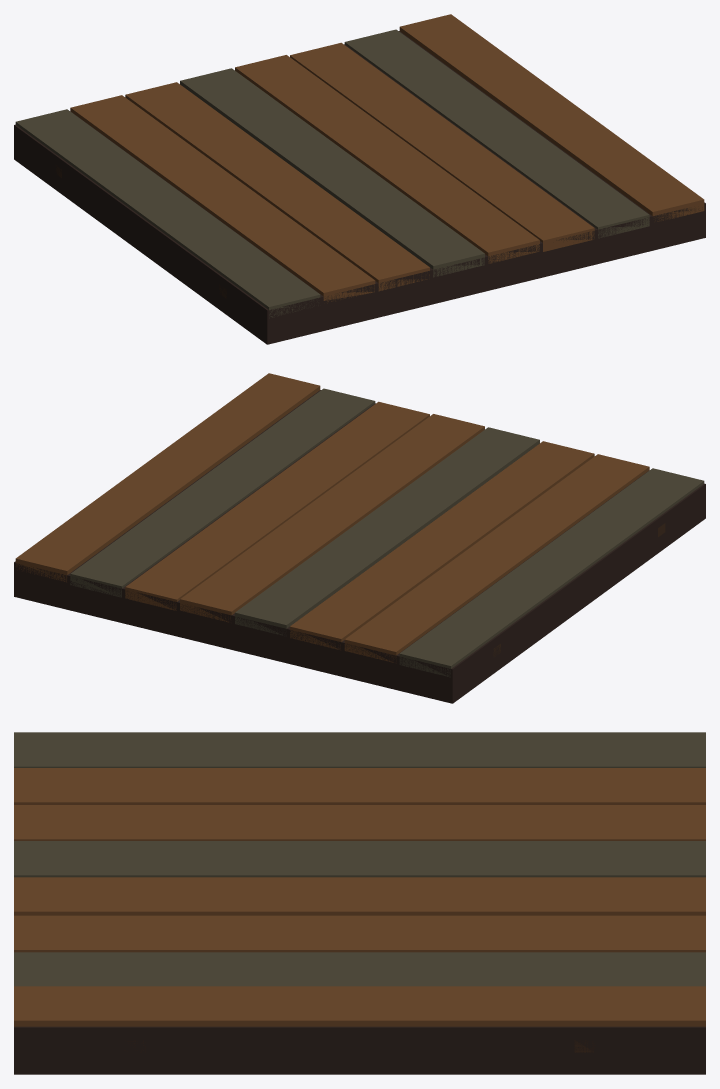
File: floor_wood.fbx
3 views of the same model, one above another, from view 1: azimuth 30°, elevation 25°; view 2: azimuth 150°, elevation 25°; view 3: azimuth 270°, elevation 25° (orthographic). The views are drawn at different scales.
Visible parts, largest first — view 1: floor_wood; view 2: floor_wood; view 3: floor_wood.
Part boxes in pixels (<box>): floor_wood: <box>14,14,705,344</box>; floor_wood: <box>14,373,705,703</box>; floor_wood: <box>14,732,705,1074</box>.
Size of the model in its own units: 4 by 0.3367 by 4.
